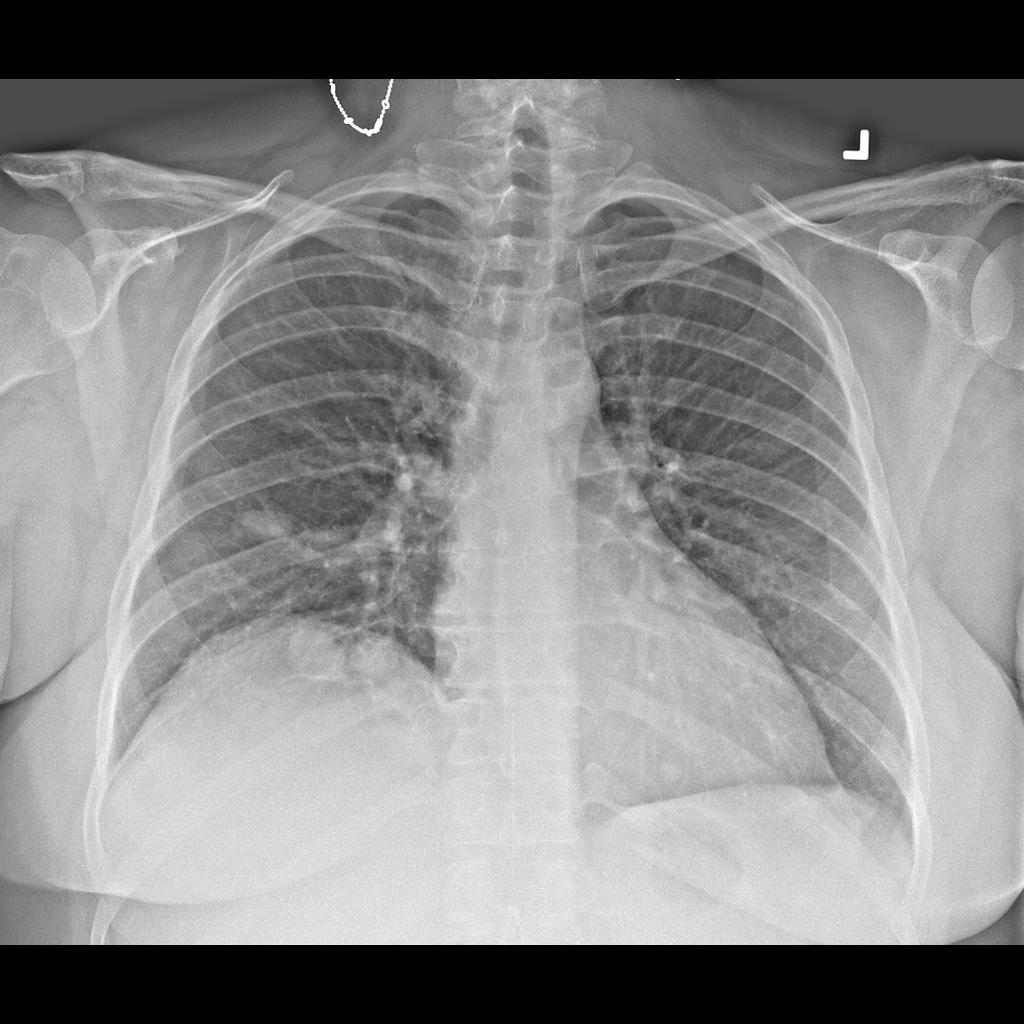Nodule: (276, 620, 345, 685), (351, 632, 412, 693), (229, 491, 291, 542)
